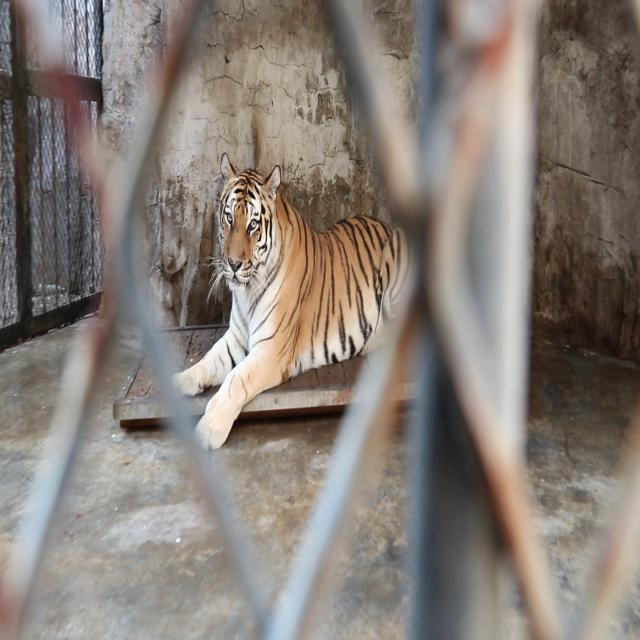Tiger: (165, 145, 415, 476)
